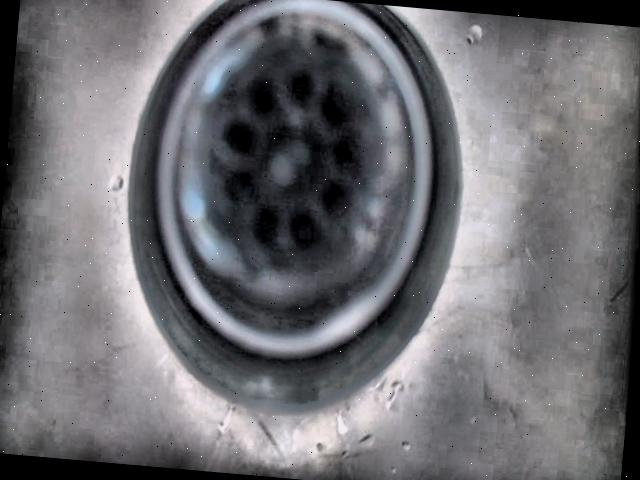Bottles: (127, 0, 457, 403)
